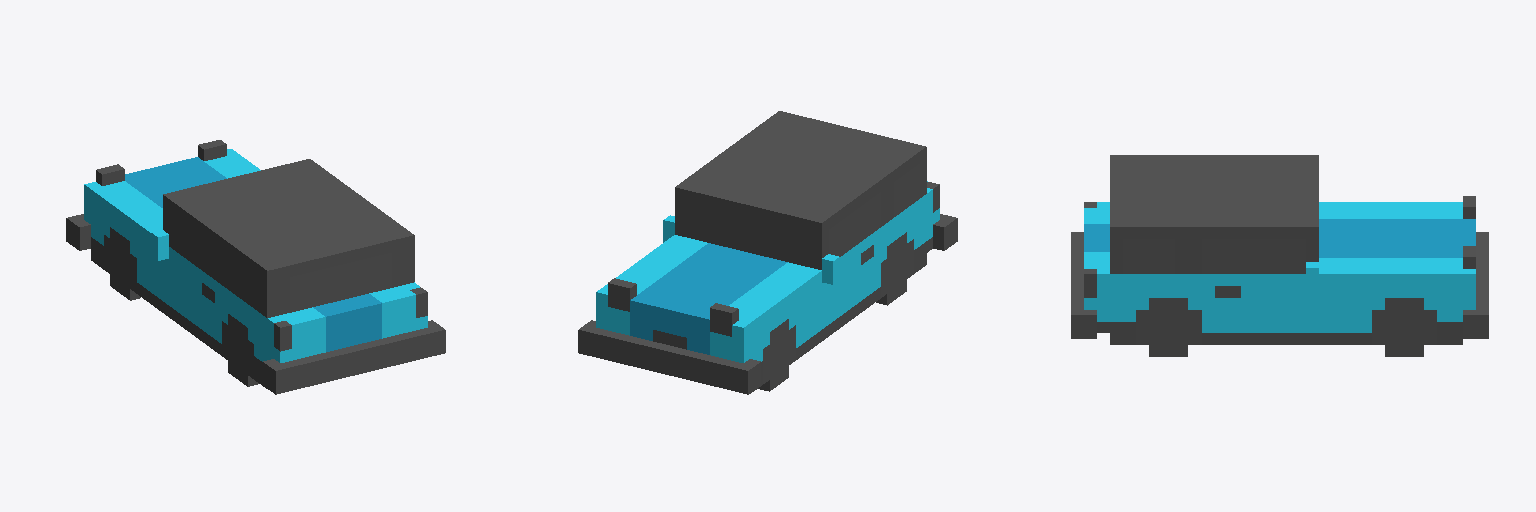
The picture shows the model from 3 angles: view 1: azimuth 30°, elevation 25°; view 2: azimuth 150°, elevation 25°; view 3: azimuth 270°, elevation 25°; orthographic projection.
Size of the model in its own units: 15 by 11 by 32.
Materials: 1 (1 with a texture image).